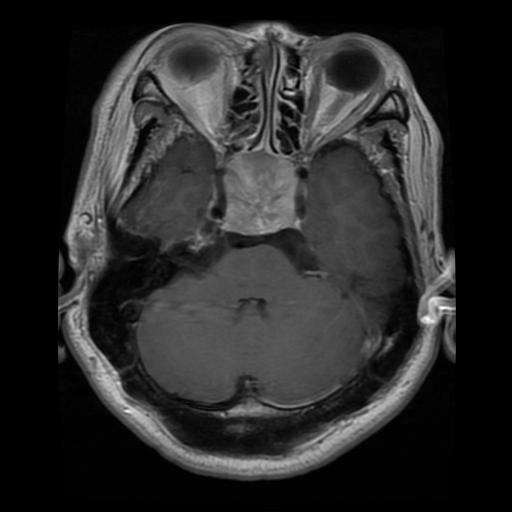Tumour-Pituitary: (207, 147, 320, 244)
